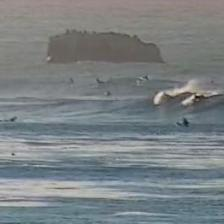surfer: (95, 78, 109, 84), (1, 117, 17, 122), (136, 76, 149, 81), (193, 94, 203, 100), (182, 118, 190, 125), (106, 92, 112, 96), (70, 79, 75, 83)
